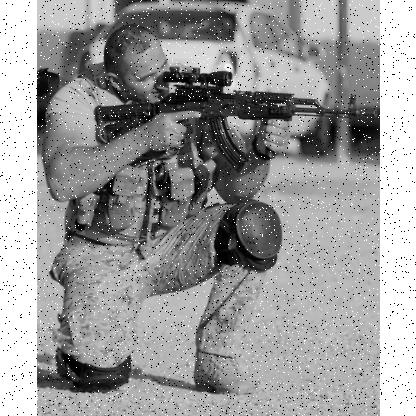gun: (98, 66, 372, 174)
